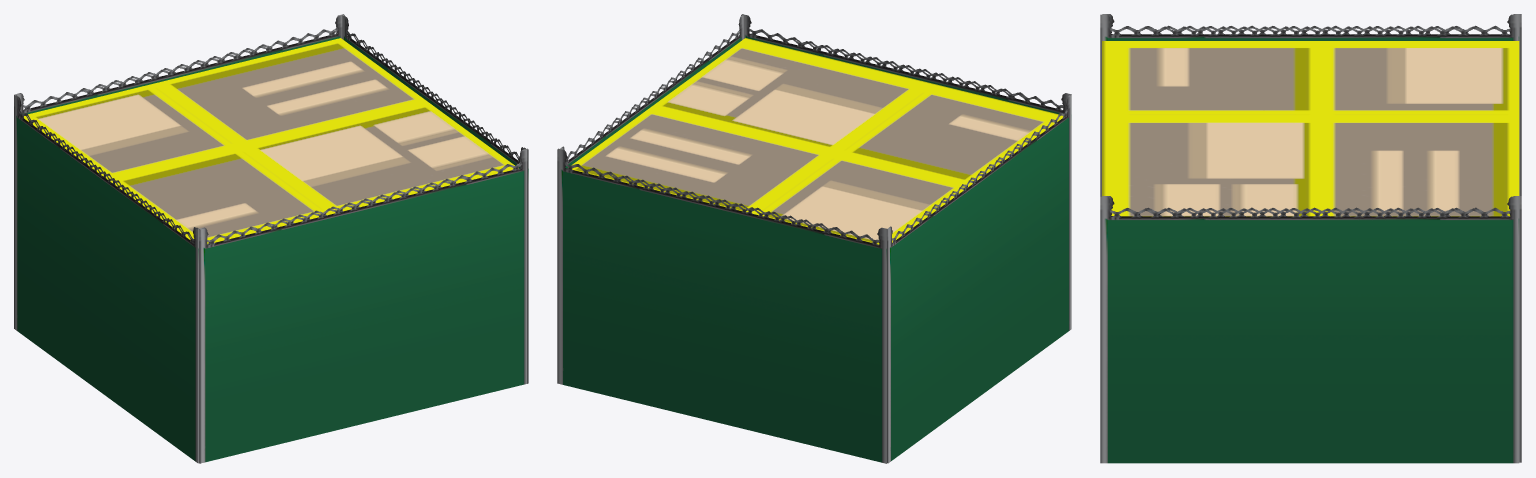
File: contruction.fbx
3 views of the same model, side by side, from view 1: azimuth 30°, elevation 25°; view 2: azimuth 150°, elevation 25°; view 3: azimuth 270°, elevation 25° (orthographic). The views are drawn at different scales.
Parts seen in each view (by area): view 1: wall2, top, wall3, wall1, wall; view 2: wall1, top, wall3, wall2, wall; view 3: wall, top, wall3.
Boxes of the visible parts, left/top/right/bottom form: wall2: left=198, top=148, right=528, bottom=463; top: left=24, top=38, right=518, bottom=243; wall3: left=14, top=95, right=200, bottom=463; wall1: left=14, top=14, right=344, bottom=114; wall: left=342, top=15, right=527, bottom=383; wall1: left=557, top=148, right=887, bottom=463; top: left=571, top=38, right=1063, bottom=244; wall3: left=887, top=94, right=1071, bottom=463; wall2: left=741, top=14, right=1071, bottom=115; wall: left=560, top=14, right=743, bottom=168; wall: left=1100, top=196, right=1521, bottom=463; top: left=1102, top=41, right=1519, bottom=216; wall3: left=1100, top=14, right=1521, bottom=196.
Size of the model in its own units: 3.01 by 2.04 by 2.92.
Materials: 1 (1 with a texture image).
